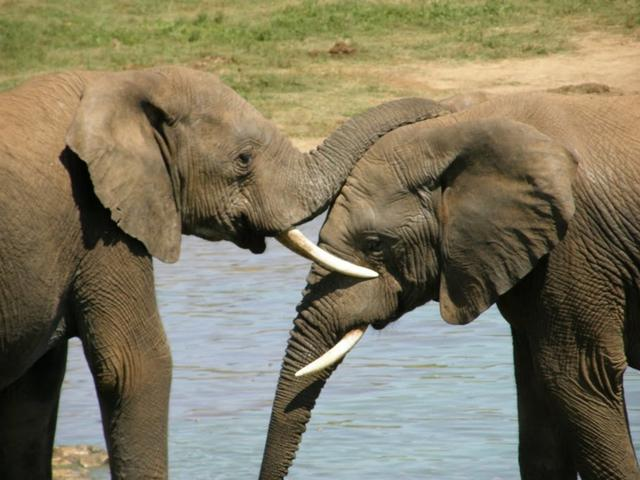elephant: (227, 37, 634, 476), (1, 38, 313, 480)
